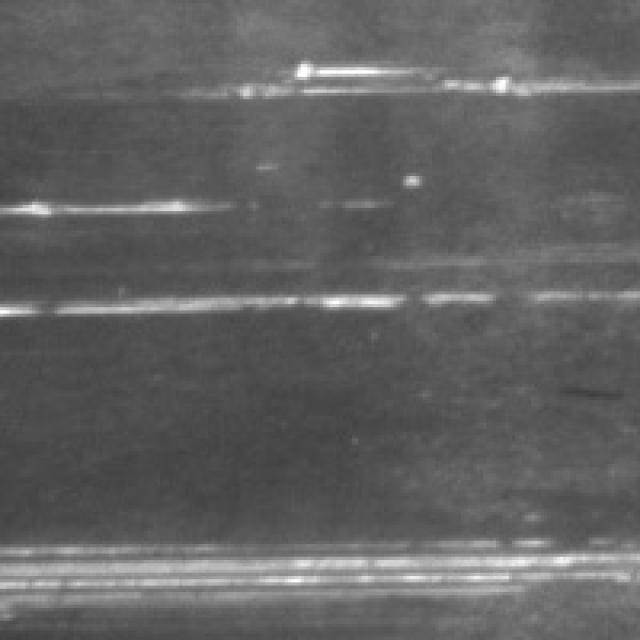scratches: (6, 528, 640, 630), (3, 272, 640, 320), (163, 48, 640, 102), (7, 179, 250, 218)
